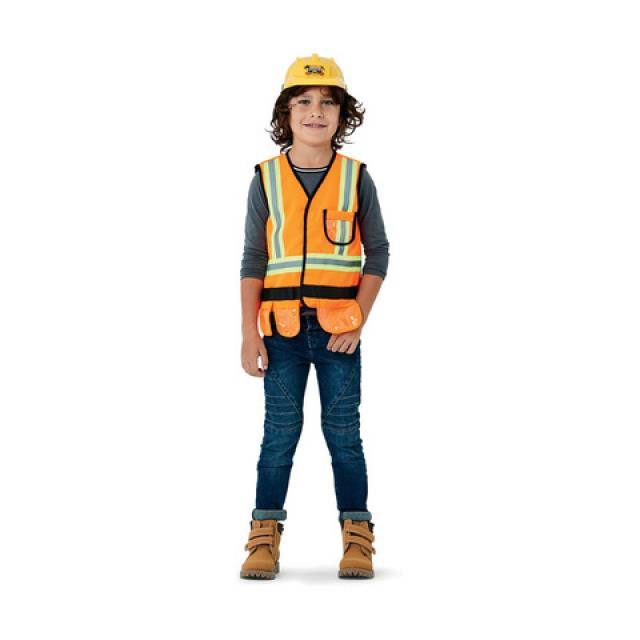Reflective-Jacket: (249, 150, 375, 342)
Safety-Helmet: (276, 49, 353, 100)
